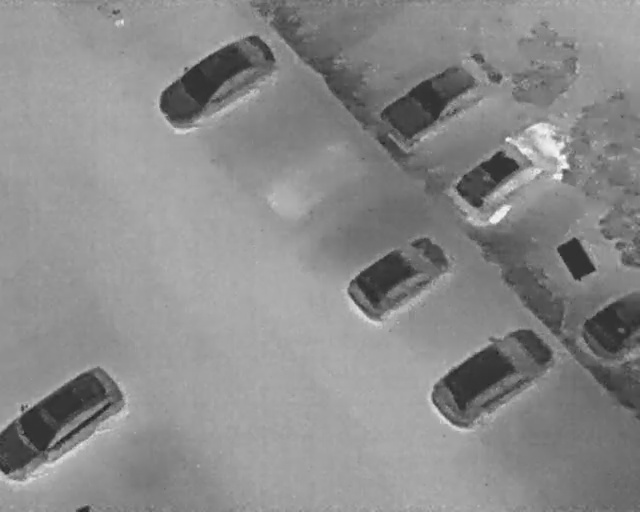Car: (437, 103, 589, 240), (420, 310, 564, 442), (370, 36, 512, 162), (148, 21, 284, 141), (0, 364, 126, 484), (335, 219, 459, 334), (579, 288, 639, 363)
